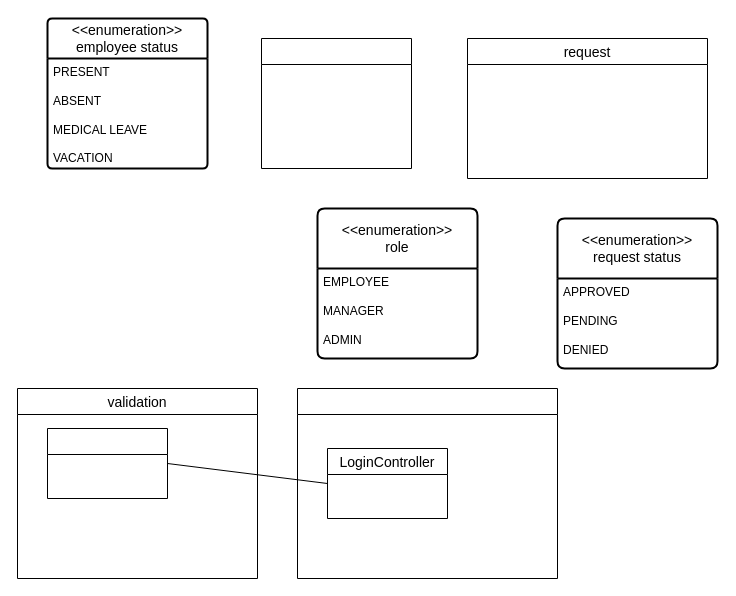
Some shapes in this 736 by 596 pixel diagram are drawn without their labels. Here are the shapes that lost their labels. From the top down, the box of each, then its label:
(260, 38, 412, 168): adress
(46, 428, 168, 498): LoginRequest
(296, 388, 558, 578): gui
